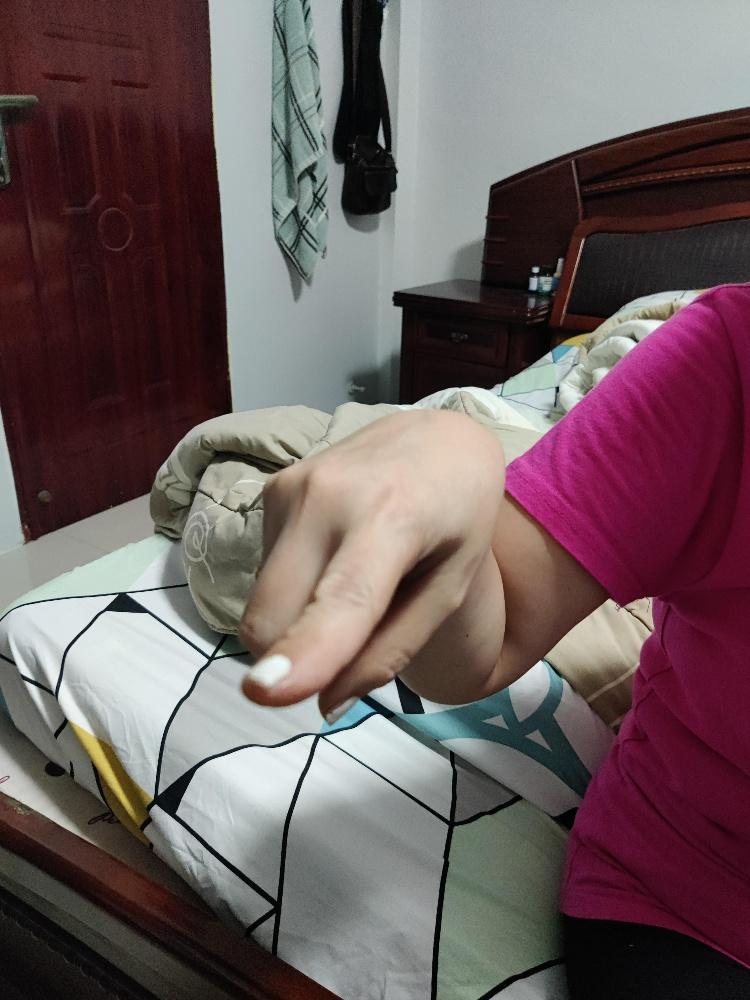z: (234, 405, 506, 728)
